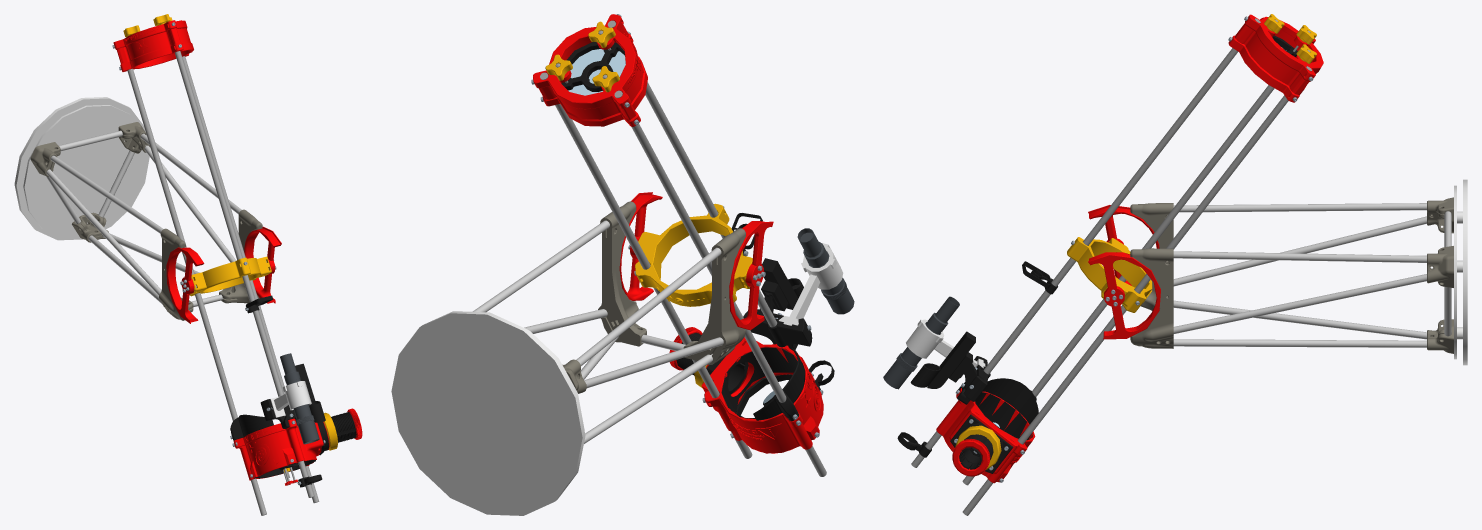
Rendered from m42-telescope.obj.
3 renders of one model, left to right at view 1: azimuth 30°, elevation 25°; view 2: azimuth 150°, elevation 25°; view 3: azimuth 270°, elevation 25°, orthographic. The views are drawn at different scales.
Visible parts, largest first — view 1: mesh341, mesh1140, mesh347, mesh3842, mesh357, mesh170, mesh164, mesh763, mesh167, mesh2372, mesh2787, mesh3013 (+7 smaller); view 2: mesh349, mesh1140, mesh1817, mesh940, mesh170, mesh3038, mesh537, mesh763, mesh6475, mesh167, mesh357, mesh4503 (+13 smaller); view 3: mesh1140, mesh164, mesh339, mesh763, mesh170, mesh167, mesh357, mesh3346, mesh931, mesh8979, mesh6475, mesh1885 (+4 smaller).
Boxes of the visible parts, x1,y1,x2,y2 form: mesh341: (24,105,149,238); mesh1140: (127,51,319,515); mesh347: (16,98,145,240); mesh3842: (246,430,290,475); mesh357: (46,169,161,295); mesh170: (50,155,163,233); mesh164: (144,145,236,262); mesh763: (140,133,241,214); mesh167: (88,235,162,304); mesh2372: (127,32,168,60); mesh2787: (166,248,196,323); mesh3013: (202,262,238,286); mesh349: (391,313,582,515); mesh1140: (541,23,826,476); mesh1817: (533,14,635,103); mesh940: (598,218,640,346); mesh170: (576,247,721,365); mesh3038: (635,204,752,294); mesh537: (683,245,725,364); mesh763: (472,220,609,312); mesh6475: (722,348,797,412); mesh167: (584,354,712,443); mesh357: (584,337,723,388); mesh4503: (726,411,798,453); mesh1140: (911,19,1311,515); mesh164: (1173,274,1426,333); mesh339: (1173,339,1426,347); mesh763: (1173,251,1426,262); mesh170: (1173,203,1426,212); mesh167: (1173,300,1426,339); mesh357: (1173,216,1426,286); mesh3346: (1088,255,1160,338); mesh931: (1133,256,1173,335); mesh8979: (982,378,1038,424); mesh6475: (975,392,1032,439); mesh1885: (1246,33,1297,84).
Size of what is drawn, in the model's own units: 0.3232 by 0.8918 by 0.9755.
